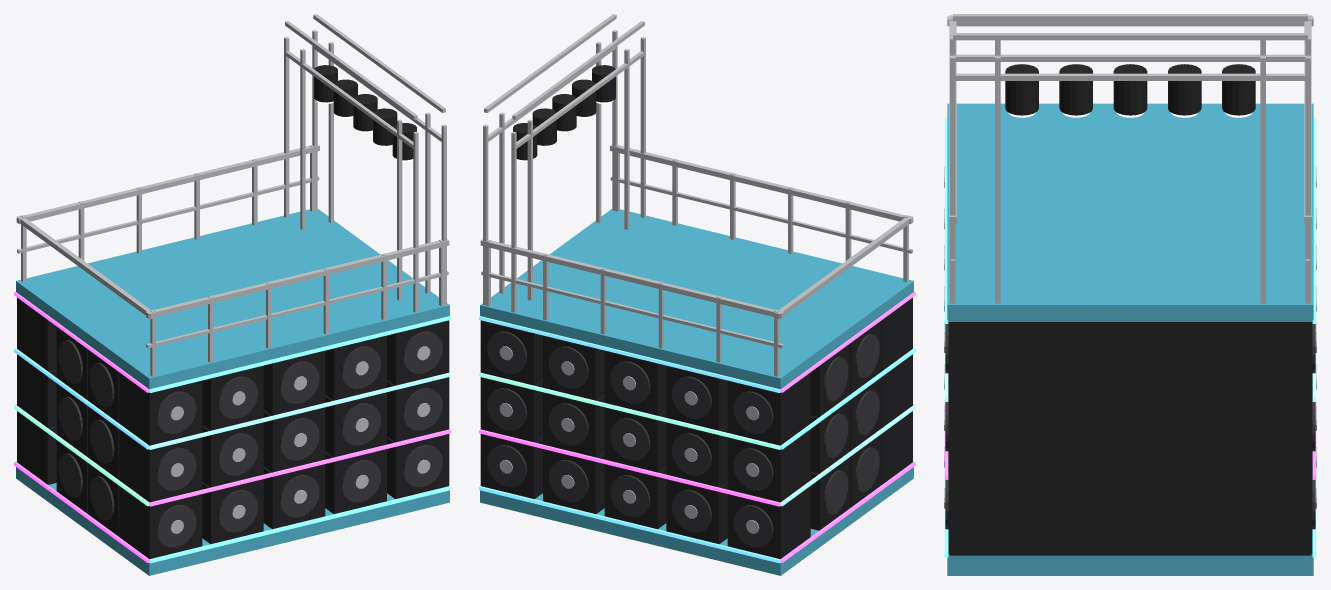
The model's file is trio-palco.glb.
The picture shows the model from 3 angles, left to right: view 1: azimuth 30°, elevation 25°; view 2: azimuth 150°, elevation 25°; view 3: azimuth 270°, elevation 25°; orthographic projection. The views are drawn at different scales.
Visible parts, largest first — view 1: trio_caixas, trio_palco, trio_luzes; view 2: trio_caixas, trio_palco, trio_luzes; view 3: trio_palco, trio_caixas, trio_luzes.
Boxes of the visible parts, x1,y1,x2,y2 form: trio_caixas: [17, 297, 449, 559]; trio_palco: [16, 14, 449, 575]; trio_luzes: [14, 65, 450, 563]; trio_caixas: [480, 297, 912, 559]; trio_palco: [480, 14, 913, 575]; trio_luzes: [479, 65, 915, 563]; trio_palco: [947, 14, 1313, 575]; trio_caixas: [944, 167, 1316, 555]; trio_luzes: [944, 64, 1316, 557].
Size of the model in its own units: 2.57 by 3.19 by 1.99.
